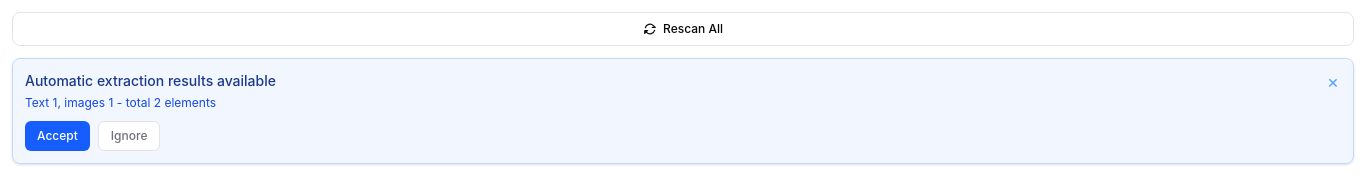
Test: ExtractionPreview › hides after dismiss is clicked
Expected: the button "Accept" is shown, [25, 121, 90, 151]
Step 1. Click the button "Ignore" → (129, 136), box [98, 121, 160, 151]
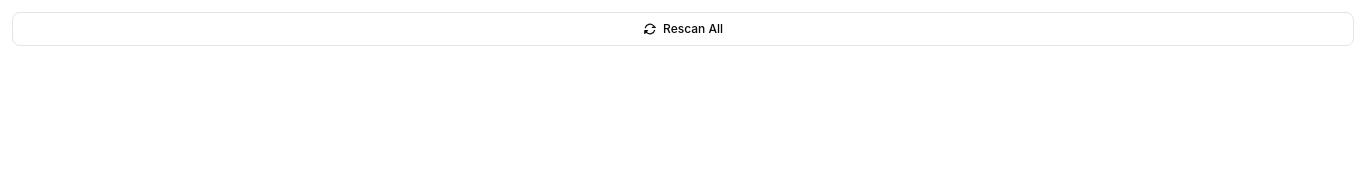
Result: the button "Accept" is gone
